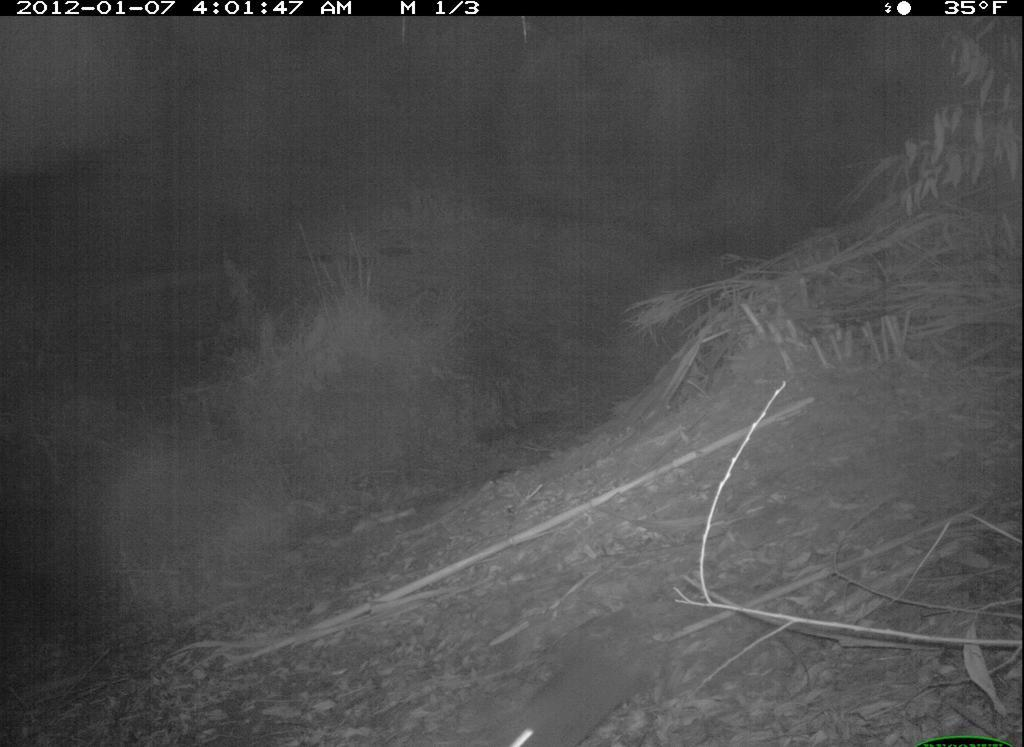rabbit: (492, 610, 655, 747)
